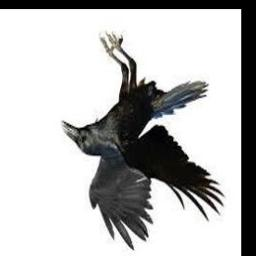Crow: (62, 34, 224, 250)
